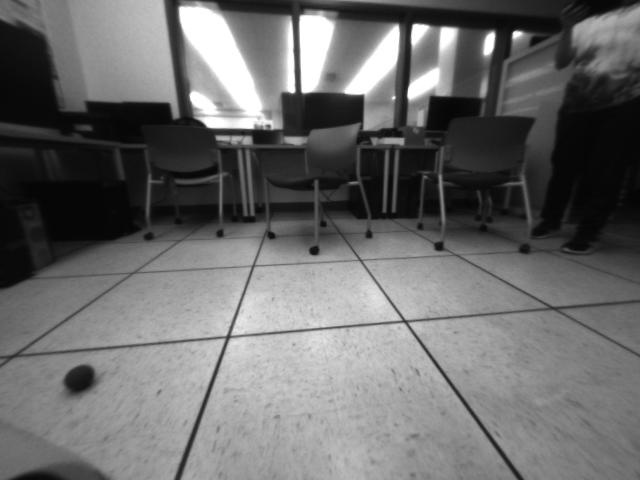dogtoy: (55, 358, 104, 398)
